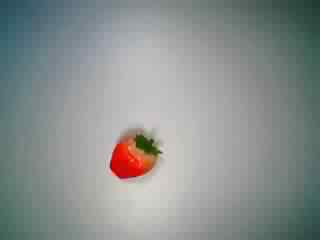strawberry: (100, 122, 168, 185)
